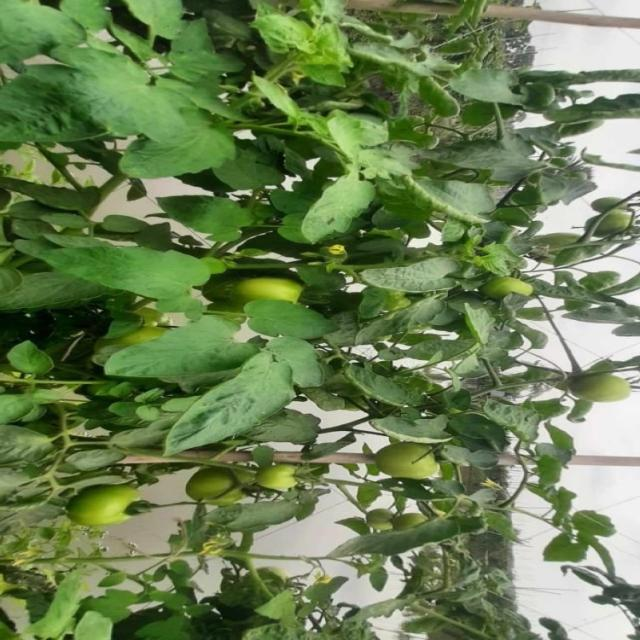tomato: (57, 478, 150, 536), (375, 441, 440, 486), (189, 463, 255, 507), (574, 371, 640, 415), (591, 191, 640, 243), (232, 271, 306, 305), (266, 463, 312, 499), (535, 79, 569, 116), (486, 277, 535, 300)
